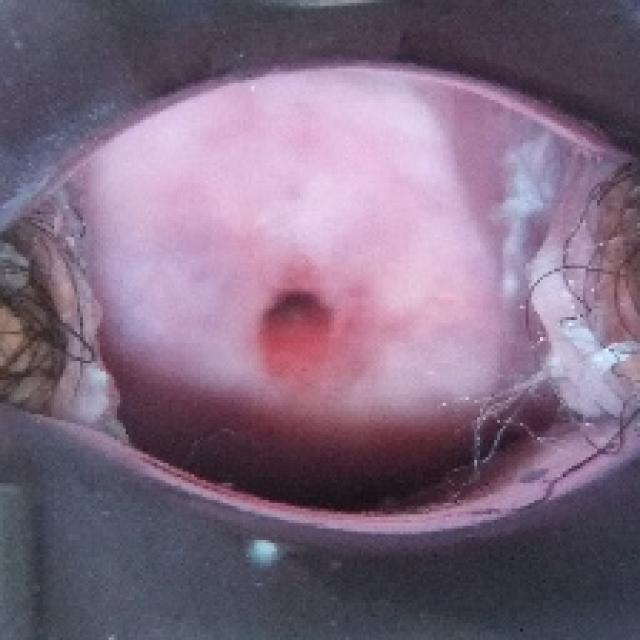type-2: (88, 77, 640, 494)
